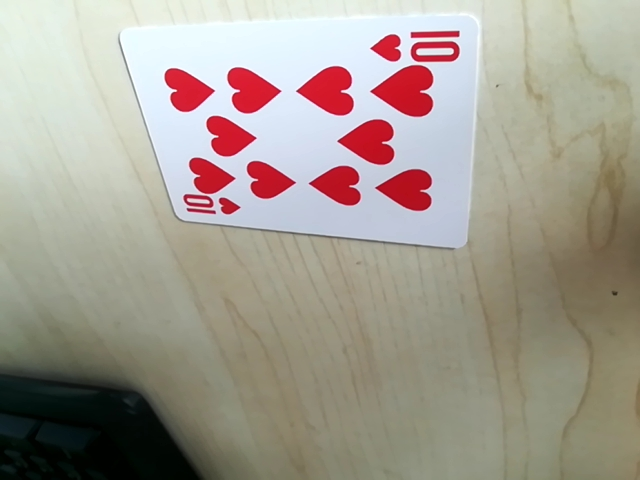hx 10: (372, 20, 465, 67), (178, 193, 244, 225)
